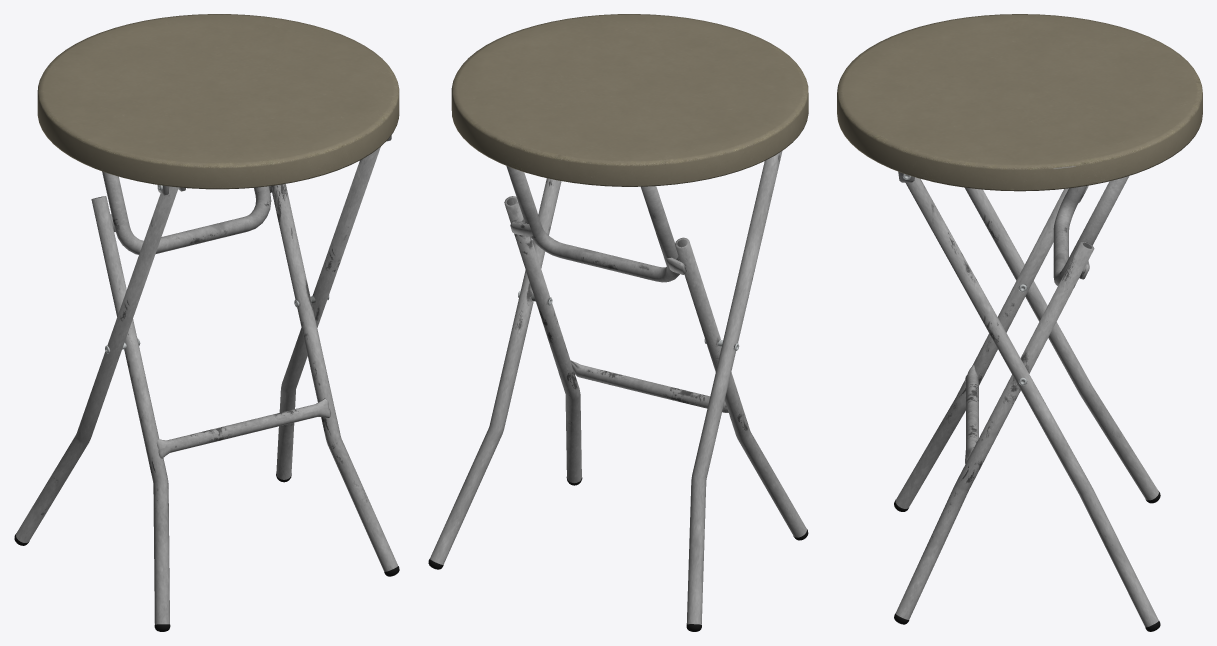
The model's file is tallbe.fbx.
3 renders of one model, left to right at view 1: azimuth 30°, elevation 25°; view 2: azimuth 150°, elevation 25°; view 3: azimuth 270°, elevation 25°, orthographic. The views are drawn at different scales.
Parts seen in each view (by area): view 1: Cylinder.001_Cylinder.002; view 2: Cylinder.001_Cylinder.002; view 3: Cylinder.001_Cylinder.002.
Boxes of the visible parts, x1,y1,x2,y2 form: Cylinder.001_Cylinder.002: (14,14,399,631); Cylinder.001_Cylinder.002: (428,14,808,631); Cylinder.001_Cylinder.002: (837,14,1202,631).
Bounding box in the file's own units: 58.31 × 83.98 × 58.31.
